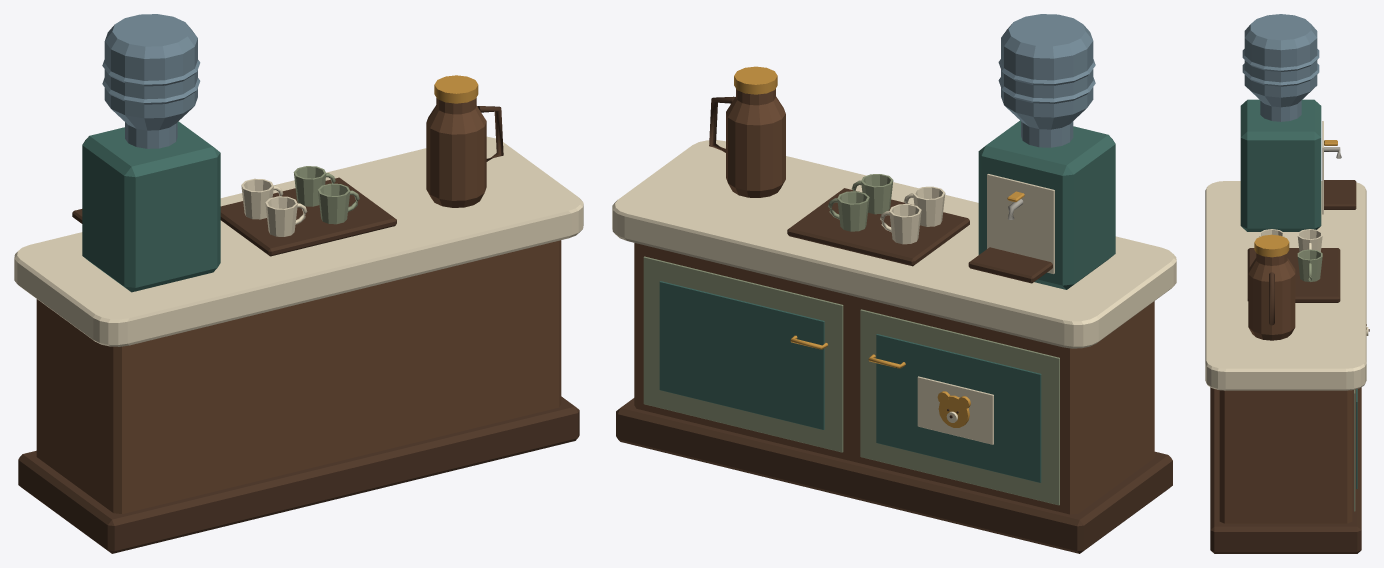
The model's file is SU_09_Tea_Station.fbx.
3 renders of one model, left to right at view 1: azimuth 30°, elevation 25°; view 2: azimuth 150°, elevation 25°; view 3: azimuth 270°, elevation 25°, orthographic. The views are drawn at different scales.
Parts seen in each view (by area): view 1: SU_09_Tea_Station; view 2: SU_09_Tea_Station; view 3: SU_09_Tea_Station.
Part boxes in pixels (box(x1,y1,x2,y2)): SU_09_Tea_Station: box(14, 14, 583, 553); SU_09_Tea_Station: box(612, 14, 1176, 553); SU_09_Tea_Station: box(1205, 14, 1369, 553).
Bounding box in the file's own units: 2.23 × 0.815 × 2.07.
